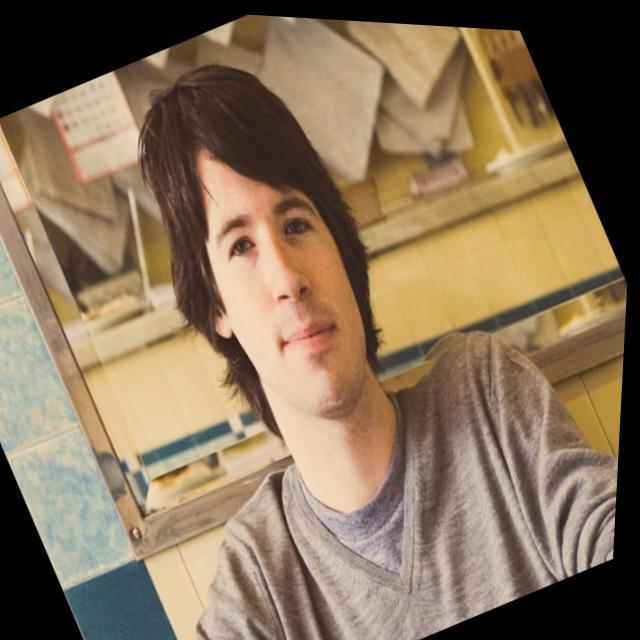Nonhelmet: (133, 60, 388, 436)
